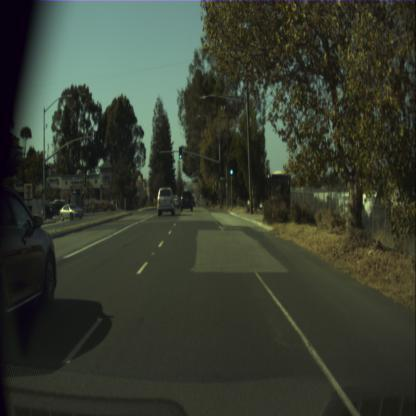Green: (220, 162, 224, 180), (229, 159, 233, 175), (179, 146, 182, 158)
RedLeft: (82, 190, 84, 198), (156, 148, 158, 156)
